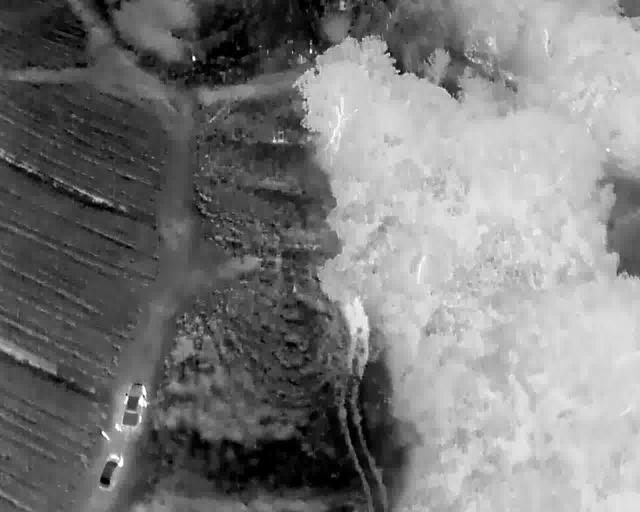car: (121, 383, 146, 427), (97, 453, 123, 491)
person: (101, 430, 109, 439), (114, 423, 121, 432)
